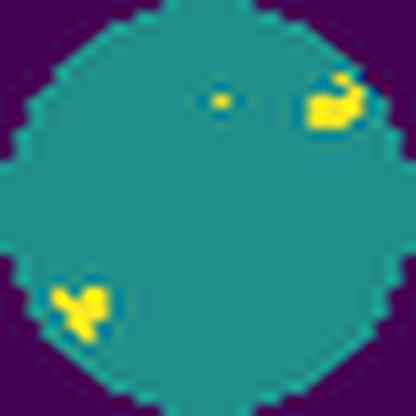Loc: (46, 278, 122, 349), (305, 70, 371, 134)
